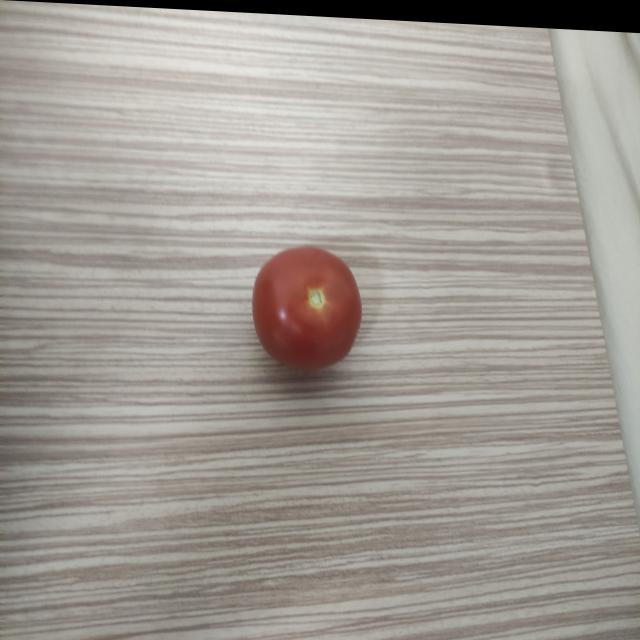kirmizi: (243, 222, 378, 375)
